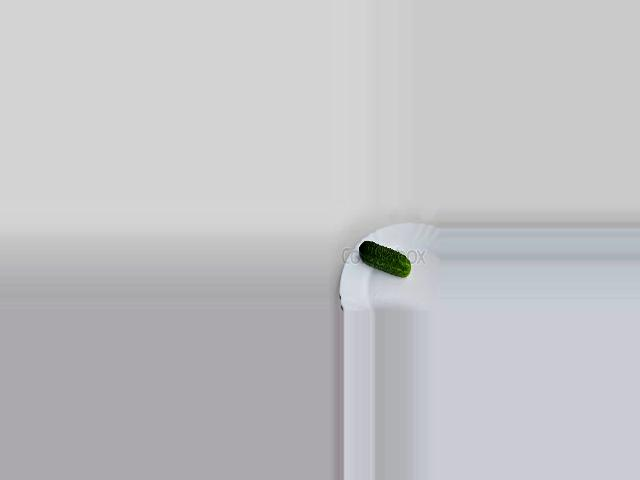cucumber: (360, 241, 410, 277)
